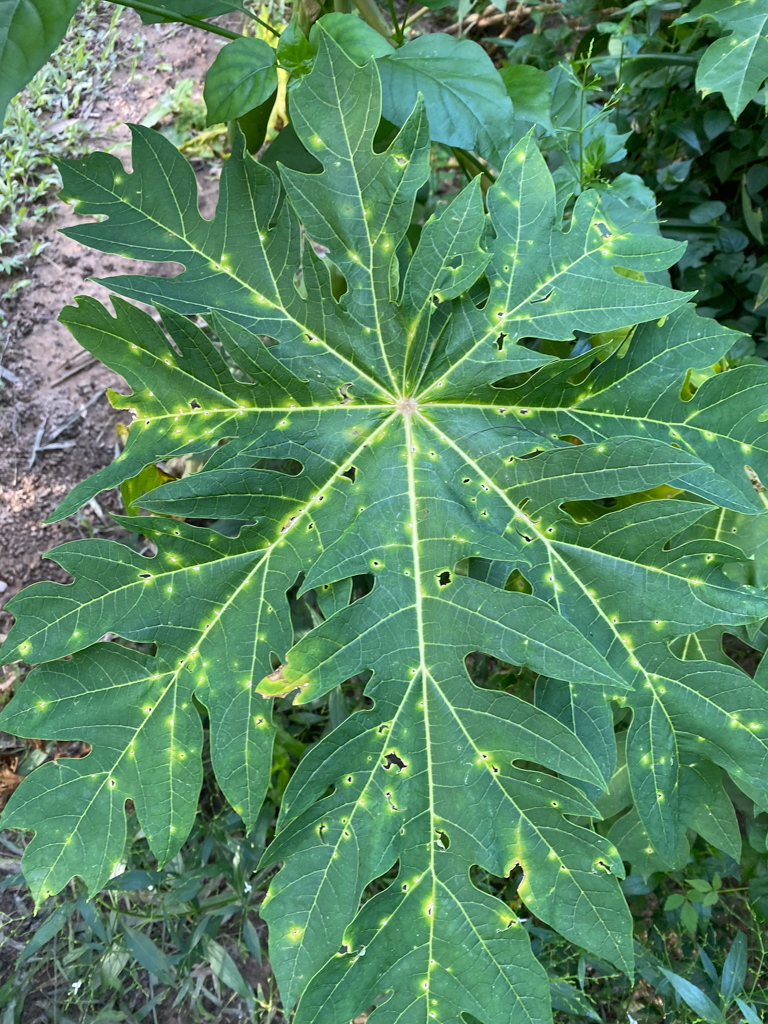Alternaria brassicicola: (410, 428, 560, 555), (95, 643, 212, 797), (130, 375, 372, 447), (571, 578, 677, 703), (398, 874, 457, 1022), (237, 486, 340, 566), (367, 709, 431, 826), (330, 188, 394, 276), (312, 764, 365, 864), (654, 411, 755, 460), (441, 388, 553, 425), (644, 544, 720, 596), (633, 730, 675, 818), (490, 256, 519, 362), (498, 827, 539, 901), (461, 737, 507, 800), (715, 695, 764, 751), (528, 257, 576, 312), (585, 206, 629, 260), (362, 548, 418, 587), (201, 241, 240, 284), (248, 281, 281, 318), (582, 847, 622, 877), (296, 317, 328, 354), (53, 823, 87, 857), (278, 917, 310, 953), (540, 842, 570, 880), (425, 562, 455, 599), (301, 124, 332, 156), (387, 146, 416, 176), (492, 910, 520, 939), (539, 793, 560, 814)
